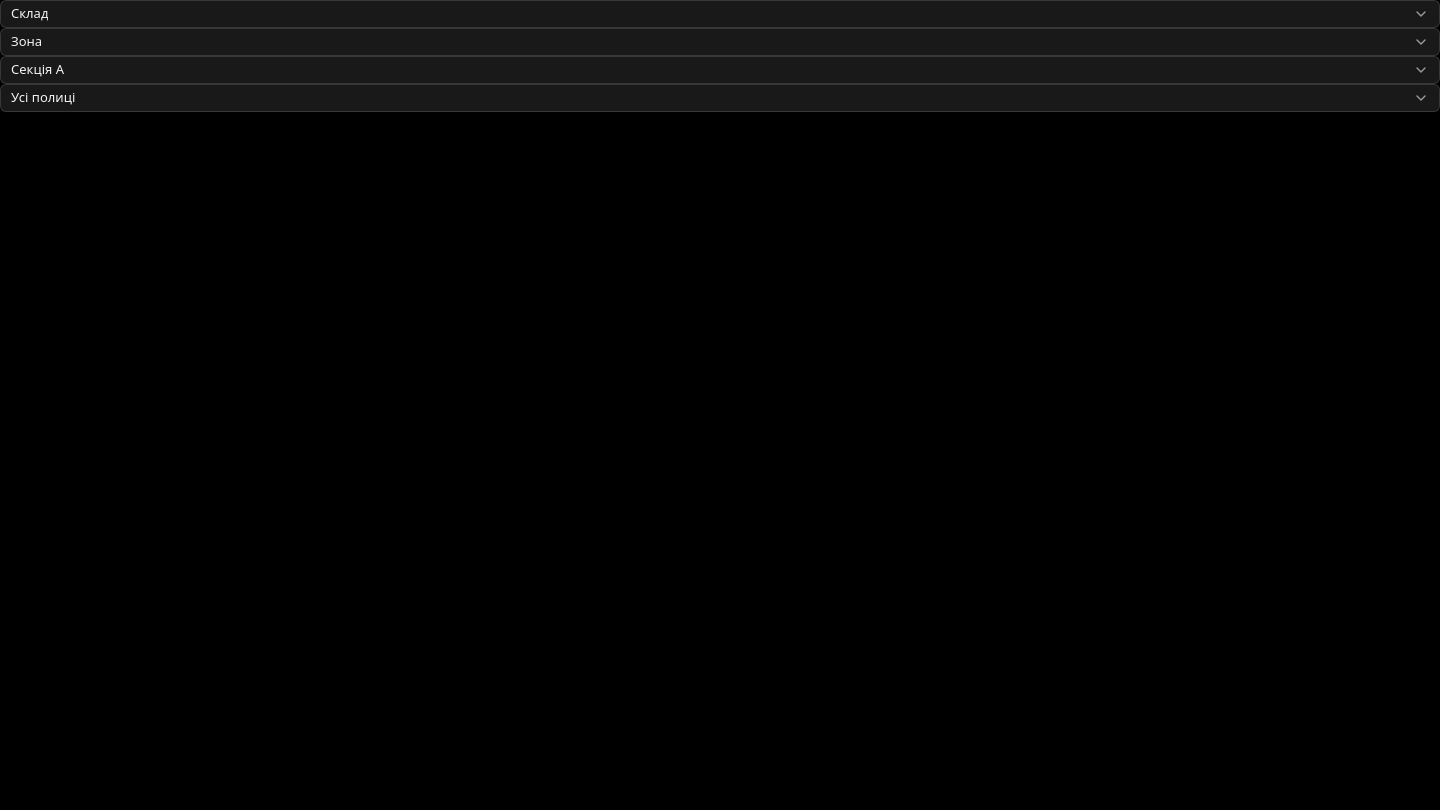
Test case: shows only names in the Полиця dropdown
Click the button named "Полиця" at coordinates (43, 97), box [0,84,1439,112]
(page scrolled)
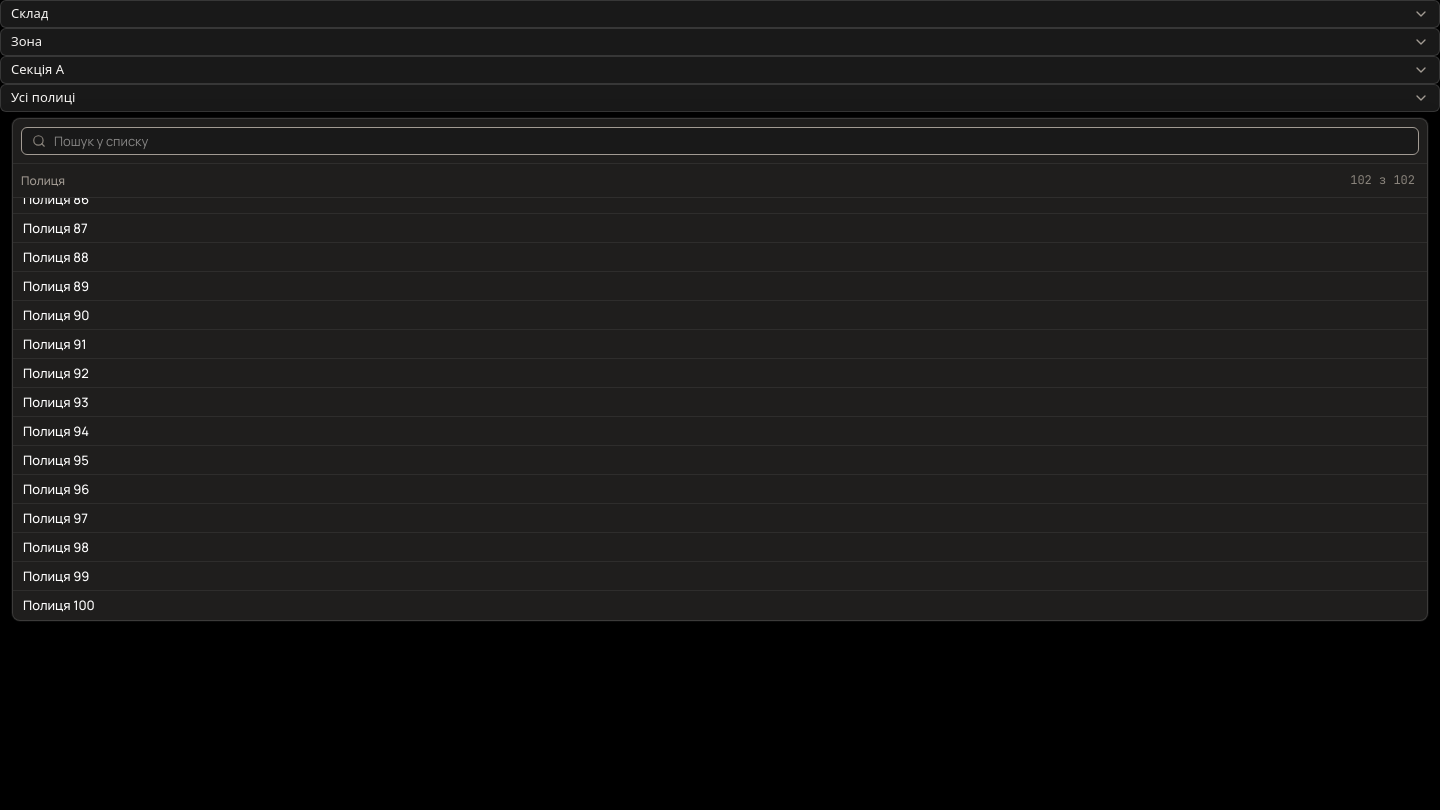
Expected: the option "Полиця 100" is shown, [13,591,1427,619]
